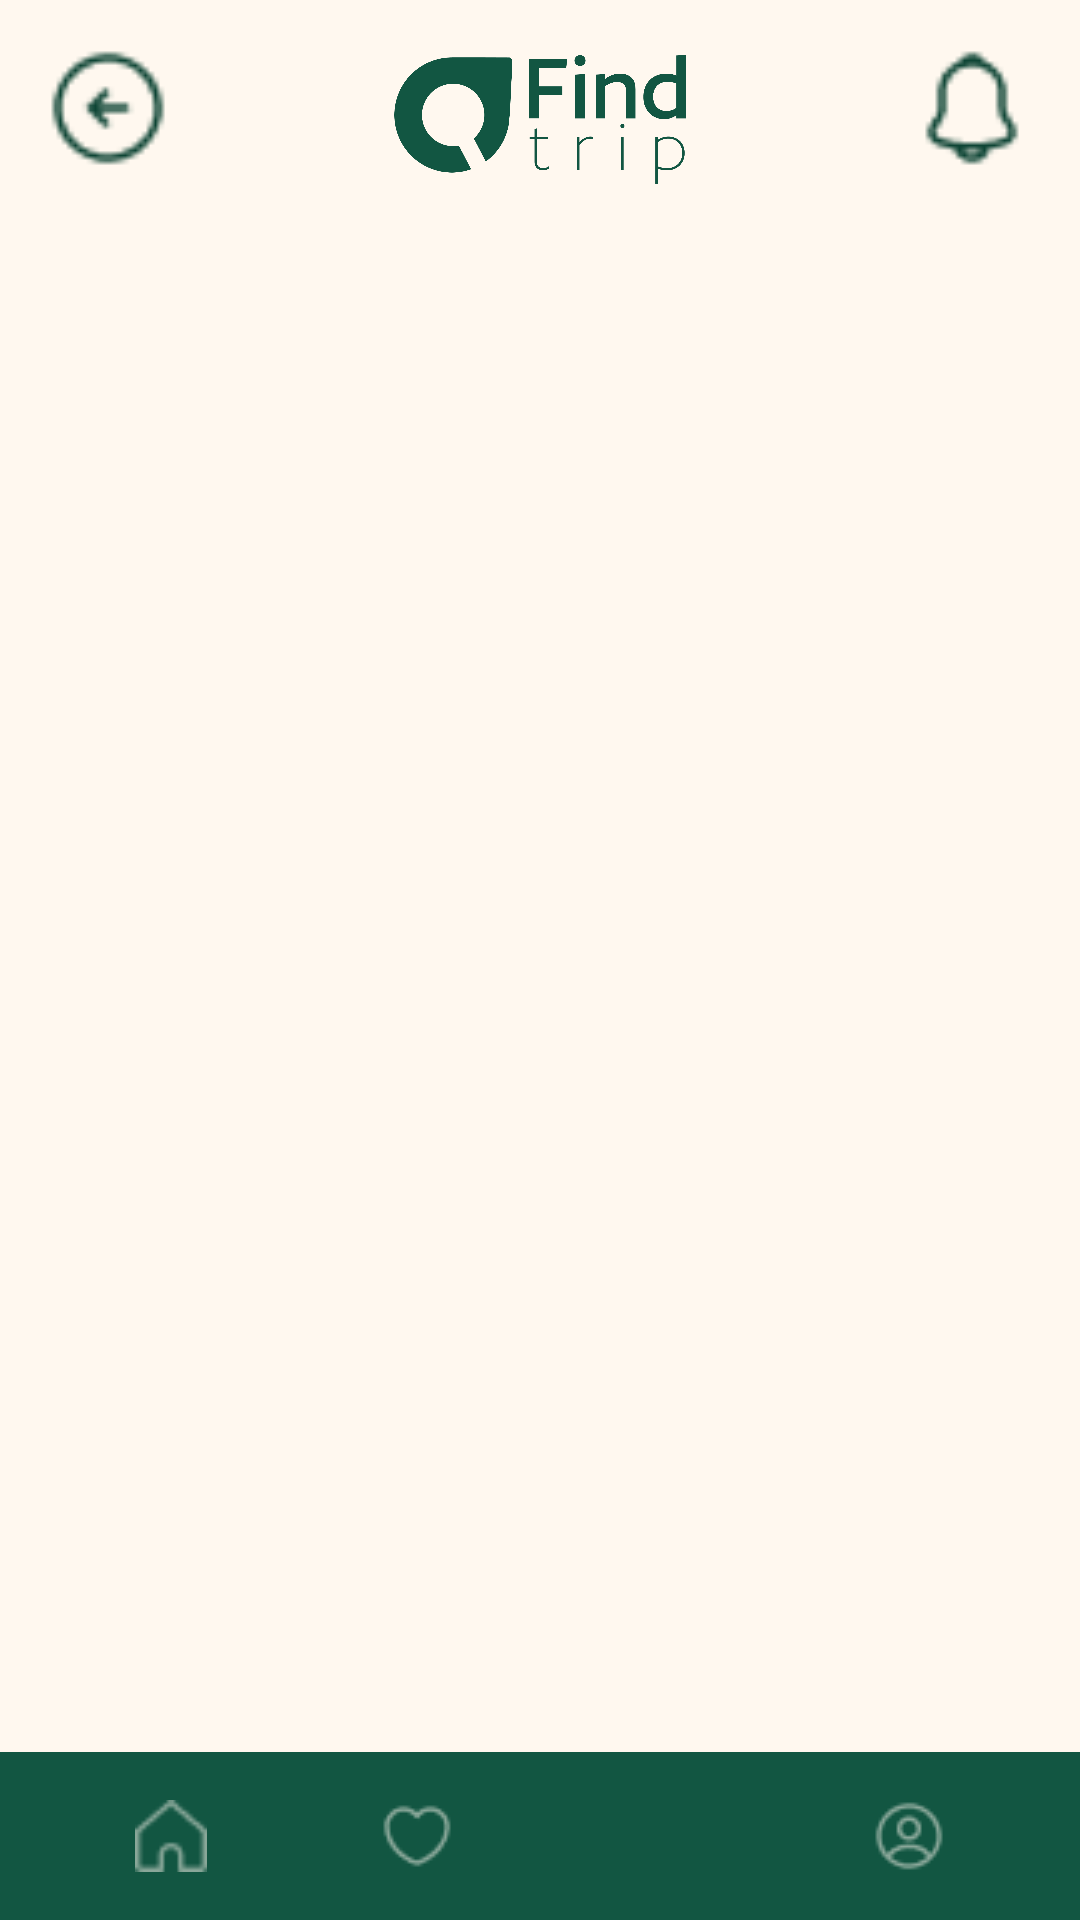

Named icons in this screenshot (1080 x 1920) and their bounding boxes, [x1, y1, x2, y2]:
back: [51, 51, 165, 165]
favorite: [383, 1805, 451, 1866]
home: [135, 1800, 207, 1872]
notification: [925, 51, 1019, 165]
profile: [875, 1802, 943, 1870]
